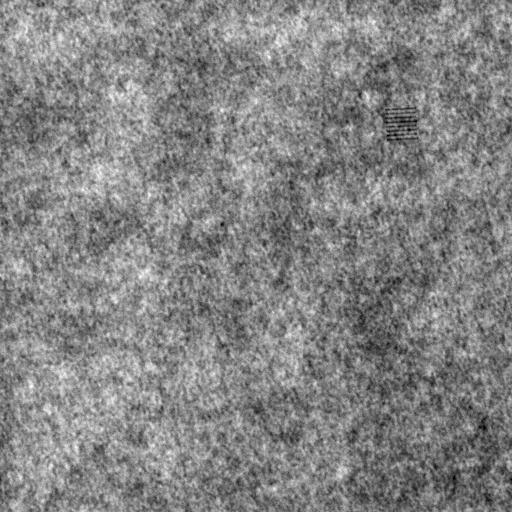impact: (382, 105, 423, 145)
